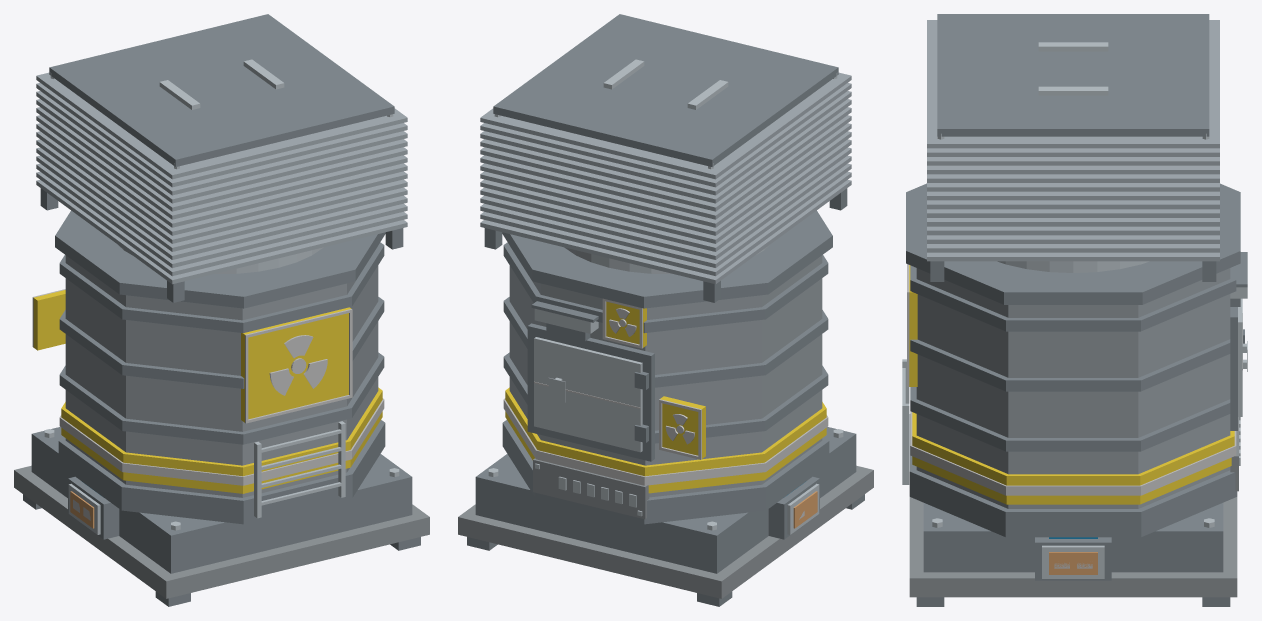
Rendered from inventory.obj.
3 views of the same model, side by side, from view 1: azimuth 30°, elevation 25°; view 2: azimuth 150°, elevation 25°; view 3: azimuth 270°, elevation 25° (orthographic). The views are drawn at different scales.
Size of the model in its own units: 0.6333 by 0.95 by 0.6276.
